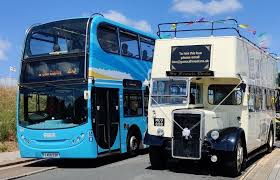bus: (15, 12, 173, 164), (143, 18, 278, 176)
